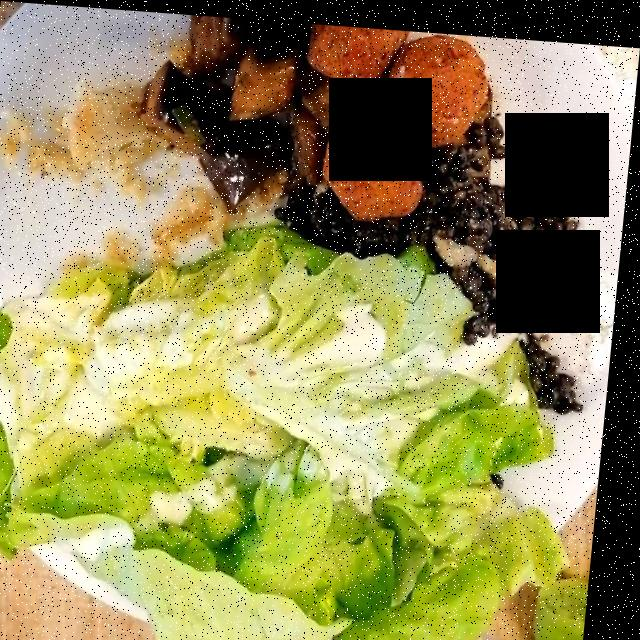eggplant: (142, 17, 367, 196)
falafel-balls: (307, 24, 488, 209)
french-salad-dressing: (155, 266, 553, 520)
salad-leaf-salad-green: (0, 223, 586, 640)
